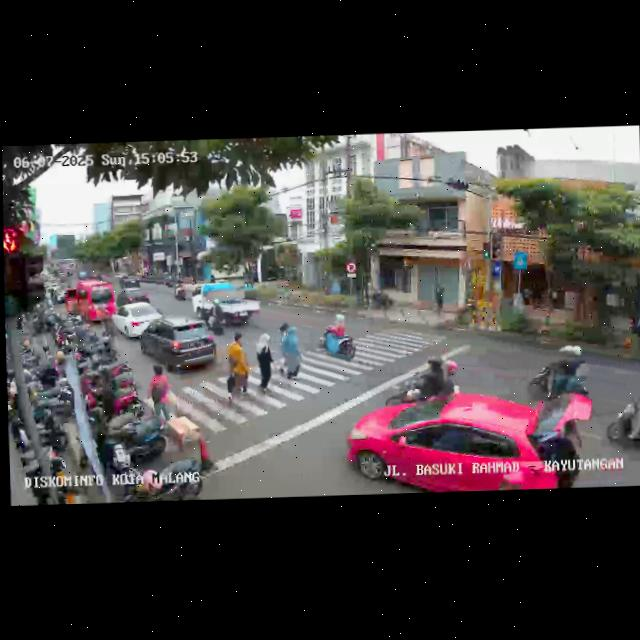car: (344, 390, 556, 495), (138, 316, 219, 374), (195, 280, 262, 331), (63, 280, 115, 326), (111, 300, 164, 341), (114, 286, 150, 307)
motorcycle: (398, 347, 461, 407), (525, 346, 589, 402), (602, 394, 640, 457), (319, 315, 354, 367), (206, 300, 226, 336), (174, 279, 186, 301)
person: (225, 331, 252, 405), (148, 366, 173, 427), (279, 323, 302, 388), (254, 329, 276, 393)
